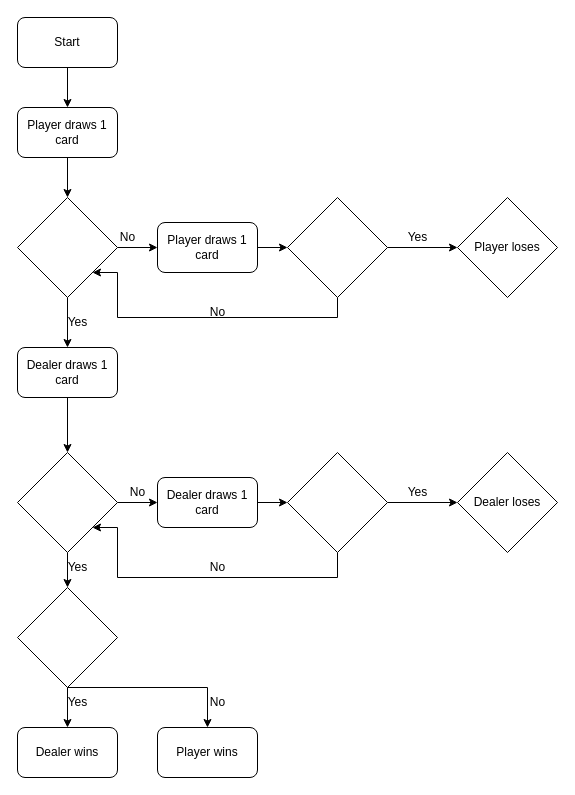
Some shapes in this 575 by 795 pixel diagram are drawn without their labels. Each missing label, with the box of its shape:
Dealer has over 21?: (286, 452, 388, 552)
Dealer stops?: (16, 452, 118, 552)
Is dealer closer 21?: (16, 586, 118, 688)
Player has over 21?: (286, 196, 388, 298)
Player stops?: (16, 196, 118, 298)
